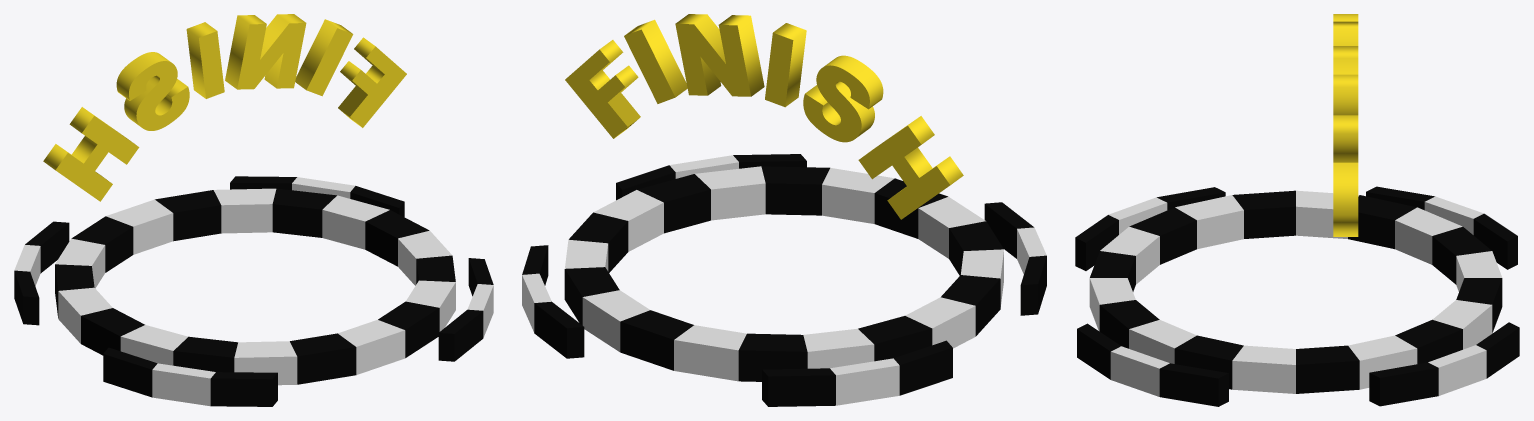
Rendered from Finish Circle.fbx.
3 renders of one model, left to right at view 1: azimuth 30°, elevation 25°; view 2: azimuth 150°, elevation 25°; view 3: azimuth 270°, elevation 25°, orthographic. The views are drawn at different scales.
Visible parts, largest first — view 1: Circle, finish, kollar; view 2: Circle, finish, kollar; view 3: Circle, kollar, finish.
Boxes of the visible parts, x1,y1,x2,y2 form: Circle: (55,188,455,385); finish: (43,14,406,201); kollar: (14,176,493,406); Circle: (564,166,1003,381); finish: (565,14,963,219); kollar: (522,154,1046,406); Circle: (1089,190,1502,393); kollar: (1075,186,1519,406); finish: (1333,14,1358,236).
Size of the model in its own units: 1633 by 1082 by 1598.
